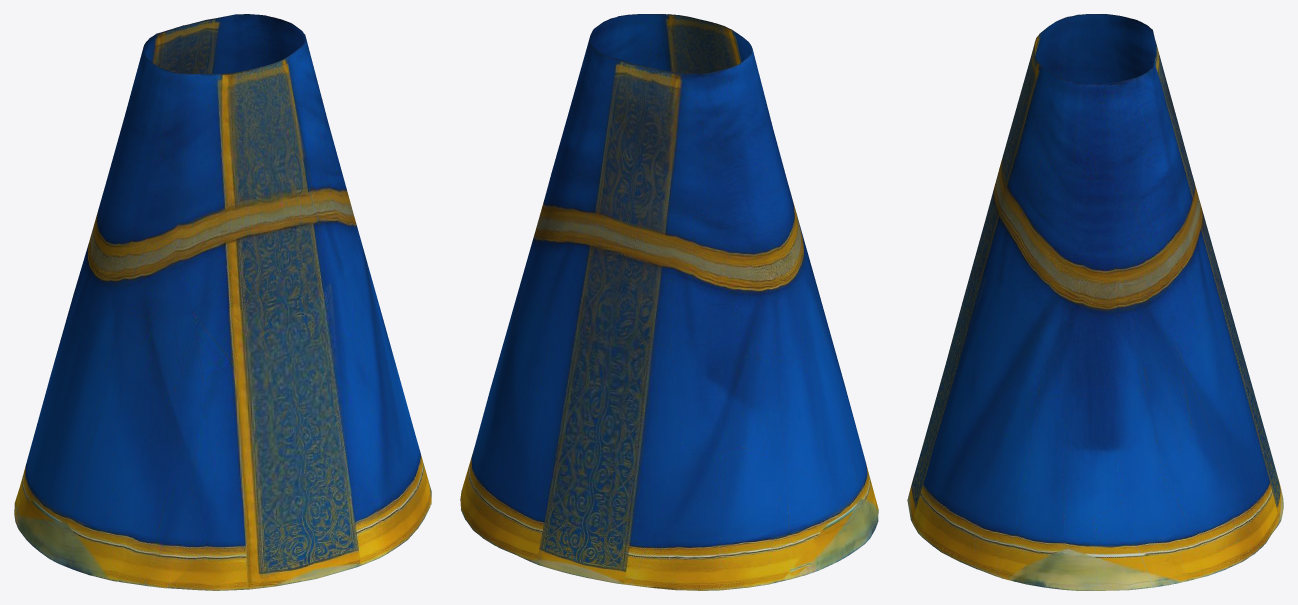
File: RobeTest.glb
3 views of the same model, side by side, from view 1: azimuth 30°, elevation 25°; view 2: azimuth 150°, elevation 25°; view 3: azimuth 270°, elevation 25° (orthographic).
Parts seen in each view (by area): view 1: Mesh_0; view 2: Mesh_0; view 3: Mesh_0.
Part boxes in pixels (x1,y1,x2,y2): Mesh_0: (14,14,431,590); Mesh_0: (460,14,878,590); Mesh_0: (907,14,1283,590).
Size of the model in its own units: 1.67 by 2 by 1.5.
Materials: 1 (1 with a texture image).
